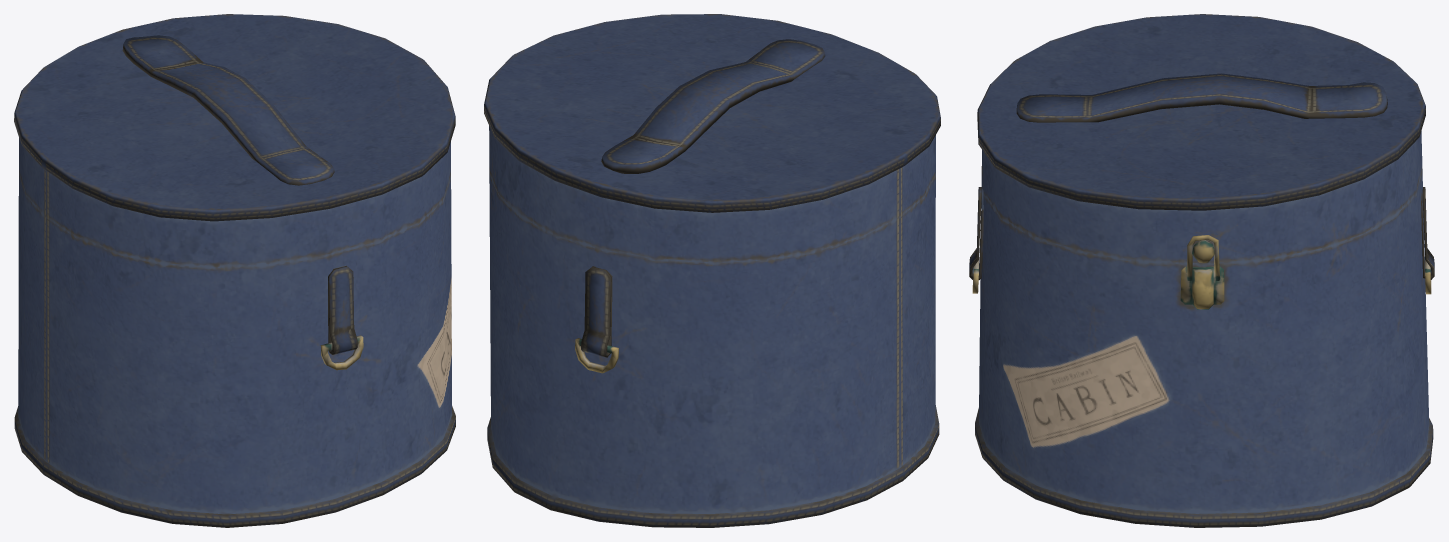
Rendered from f_SuitcaseB.fbx.
3 renders of one model, left to right at view 1: azimuth 30°, elevation 25°; view 2: azimuth 150°, elevation 25°; view 3: azimuth 270°, elevation 25°, orthographic. The views are drawn at different scales.
Parts seen in each view (by area): view 1: Suitcase_B_LD; view 2: Suitcase_B_LD; view 3: Suitcase_B_LD.
Boxes of the visible parts, bbox=[...] form: Suitcase_B_LD: bbox=[14, 14, 455, 527]; Suitcase_B_LD: bbox=[484, 14, 940, 527]; Suitcase_B_LD: bbox=[969, 14, 1434, 527].
Bounding box in the file's own units: 64.27 × 54.19 × 64.1.
